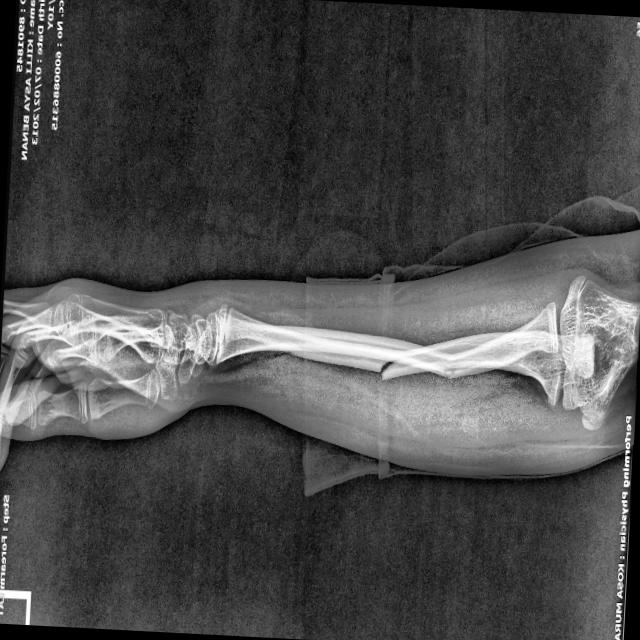Fracture: (212, 358, 331, 493), (437, 343, 462, 388), (376, 354, 400, 384)
